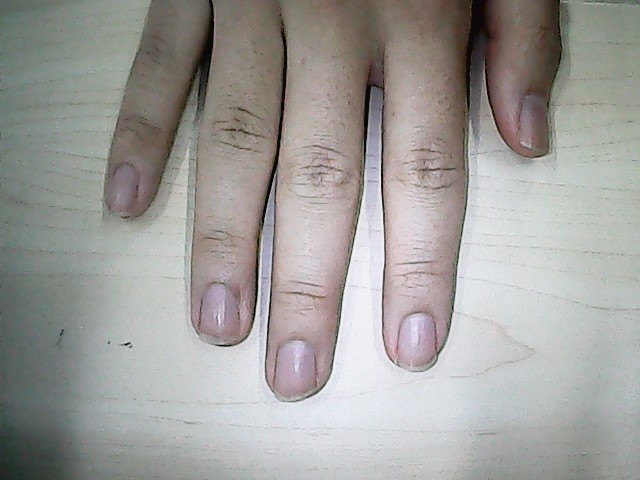nail: (279, 343, 313, 402), (203, 288, 238, 345), (520, 98, 552, 155), (403, 315, 434, 373), (111, 169, 133, 219)
